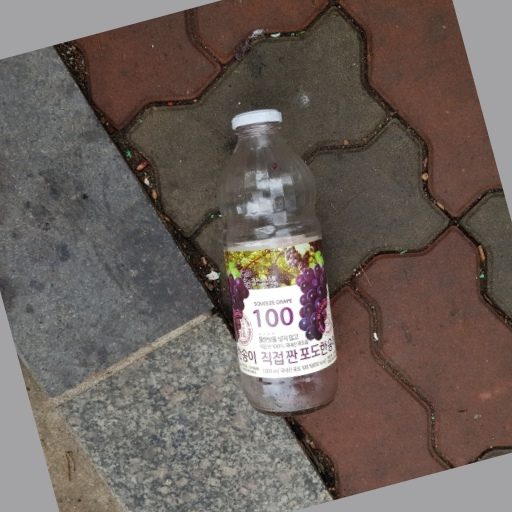Glass_4: (217, 106, 349, 416)
